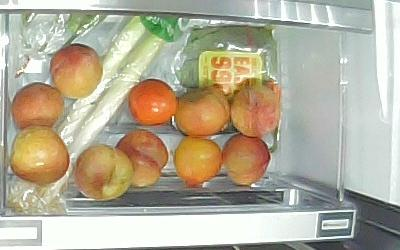prune: (12, 126, 69, 183), (75, 145, 134, 200), (115, 129, 170, 187), (174, 87, 230, 138), (51, 44, 102, 98), (173, 136, 224, 186), (231, 85, 278, 137), (12, 83, 64, 129), (222, 135, 270, 184), (128, 79, 177, 126)
